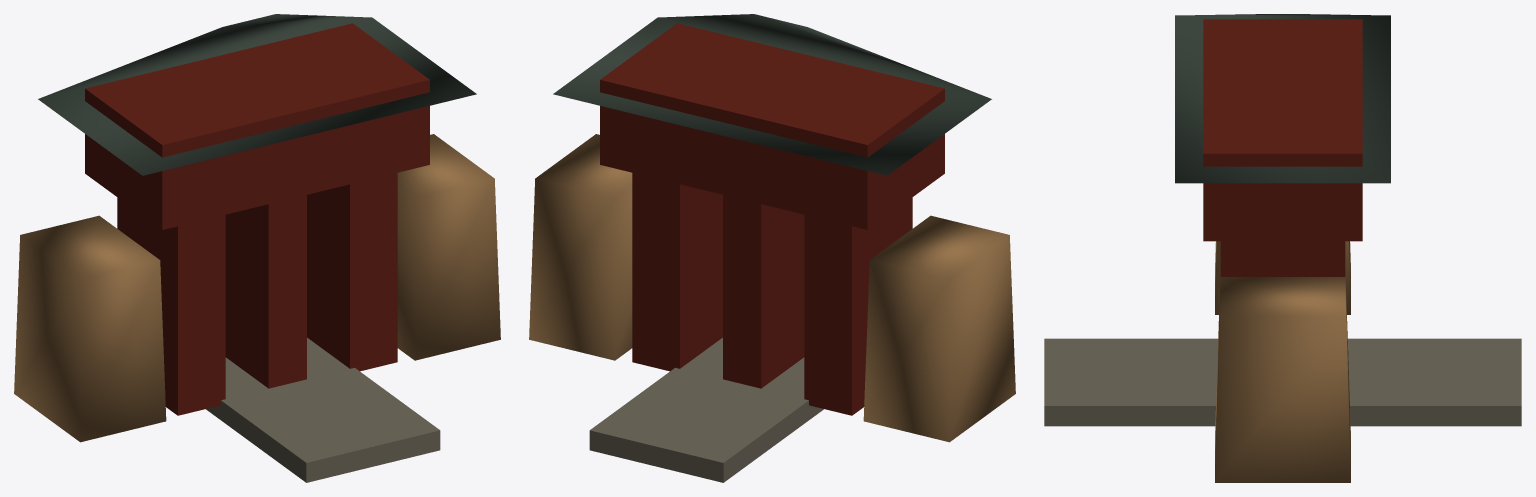
File: R15_HAN_LUOYANG_GATE_PINGCHENGMEN_A.fbx
3 renders of one model, left to right at view 1: azimuth 30°, elevation 25°; view 2: azimuth 150°, elevation 25°; view 3: azimuth 270°, elevation 25°, orthographic. The views are drawn at different scales.
Visible parts, largest first — view 1: house, wall_e, wall_w, road, pier_w, roof, pier_mid, pier_e; view 2: house, wall_e, wall_w, road, pier_w, roof, pier_mid, pier_e; view 3: house, road, wall_w, roof, pier_w, wall_e.
Boxes of the visible parts, x1,y1,x2,y2 form: house: [85, 23, 429, 229]; wall_e: [14, 215, 166, 442]; wall_w: [397, 134, 500, 360]; road: [206, 337, 440, 482]; pier_w: [307, 173, 397, 371]; roof: [38, 14, 476, 175]; pier_mid: [225, 195, 306, 388]; pier_e: [117, 197, 225, 415]; house: [600, 23, 944, 229]; wall_e: [863, 215, 1015, 442]; wall_w: [529, 134, 632, 360]; road: [589, 337, 823, 482]; pier_w: [632, 173, 722, 371]; roof: [553, 14, 991, 175]; pier_mid: [723, 195, 804, 388]; pier_e: [804, 197, 912, 415]; house: [1203, 19, 1362, 241]; road: [1044, 338, 1521, 426]; wall_w: [1215, 277, 1350, 482]; roof: [1175, 14, 1390, 183]; pier_w: [1220, 241, 1345, 276]; wall_e: [1215, 241, 1350, 314].
Size of the model in its own units: 88 by 71 by 84.
